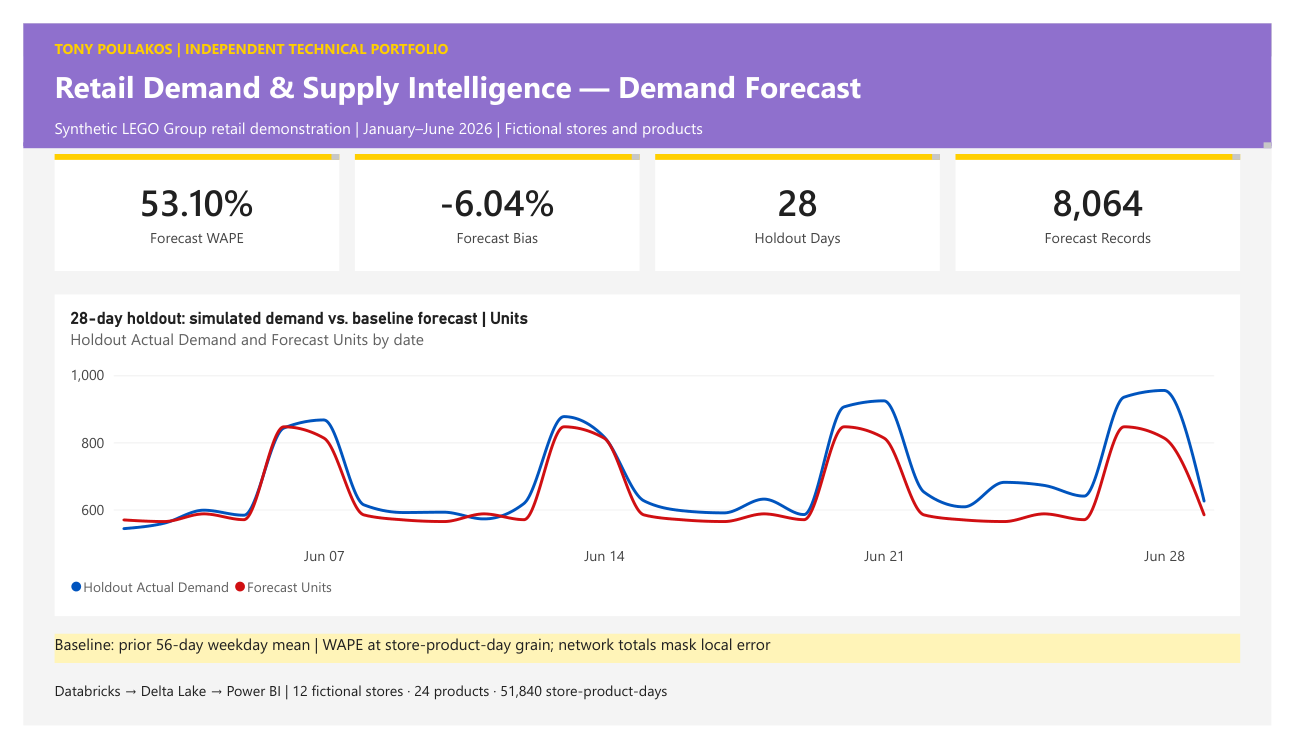

This screenshot's page, from the dashboard's own definition file:
{"tool":"powerbi","page":{"name":"Demand Forecast","canvas":[1280,720],"ordinal":3},"visuals":[{"type":"textbox","box":[0,0,1280,126],"z":0},{"type":"textbox","box":[32,674,1216,25],"z":1000},{"type":"textbox","box":[0,122,1280,6],"z":2000},{"type":"card","fields":{"Values":["gold_fact_forecast.Forecast WAPE"]},"box":[32,134,292,120],"z":3000},{"type":"card","fields":{"Values":["gold_fact_forecast.Forecast Bias"]},"box":[340,134,292,120],"z":4000},{"type":"card","fields":{"Values":["gold_fact_forecast.Holdout Days"]},"box":[648,134,292,120],"z":5000},{"type":"card","fields":{"Values":["gold_fact_forecast.Forecast Records"]},"box":[956,134,292,120],"z":6000},{"type":"lineChart","title":"28-day holdout: simulated demand vs. baseline forecast | Units","fields":{"Category":["gold_dim_date.date"],"Y":["gold_fact_forecast.Holdout Actual Demand","gold_fact_forecast.Forecast Units"]},"box":[32,278,1216,330],"z":7000},{"type":"textbox","box":[32,626,1216,30],"z":8000},{"type":"textbox","box":[32.2,15.3,1215.7,30.6],"z":9000},{"type":"textbox","box":[32.2,44.4,1215.7,58.2],"z":10000},{"type":"textbox","box":[32.2,96.5,1215.7,30.6],"z":11000},{"type":"textbox","box":[32,134,292,6],"z":12000},{"type":"textbox","box":[340,134,292,6],"z":13000},{"type":"textbox","box":[648,134,292,6],"z":14000},{"type":"textbox","box":[956,134,292,6],"z":15000}]}

Visuals, with their boxes in screenshot pixels (x1, y1, x2, y2), scaled from the page's 1280x720 canvas onto the 1295x749 screenshot:
textbox: bbox(0, 0, 1294, 131)
textbox: bbox(32, 701, 1263, 727)
textbox: bbox(0, 127, 1294, 133)
card - gold_fact_forecast.Forecast WAPE: bbox(32, 139, 328, 264)
card - gold_fact_forecast.Forecast Bias: bbox(344, 139, 639, 264)
card - gold_fact_forecast.Holdout Days: bbox(656, 139, 951, 264)
card - gold_fact_forecast.Forecast Records: bbox(967, 139, 1263, 264)
"28-day holdout: simulated demand vs. baseline forecast | Units" lineChart: bbox(32, 289, 1263, 632)
textbox: bbox(32, 651, 1263, 682)
textbox: bbox(33, 16, 1263, 48)
textbox: bbox(33, 46, 1263, 107)
textbox: bbox(33, 100, 1263, 132)
textbox: bbox(32, 139, 328, 146)
textbox: bbox(344, 139, 639, 146)
textbox: bbox(656, 139, 951, 146)
textbox: bbox(967, 139, 1263, 146)
